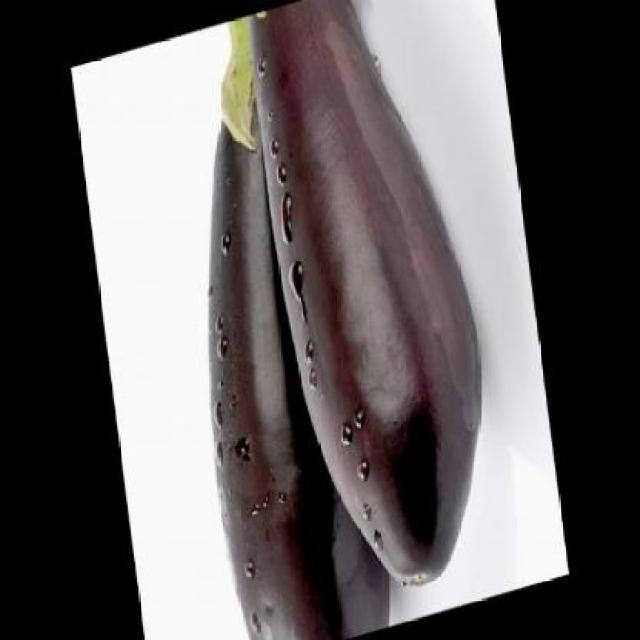eggplant: (244, 0, 508, 619), (158, 0, 396, 638)
